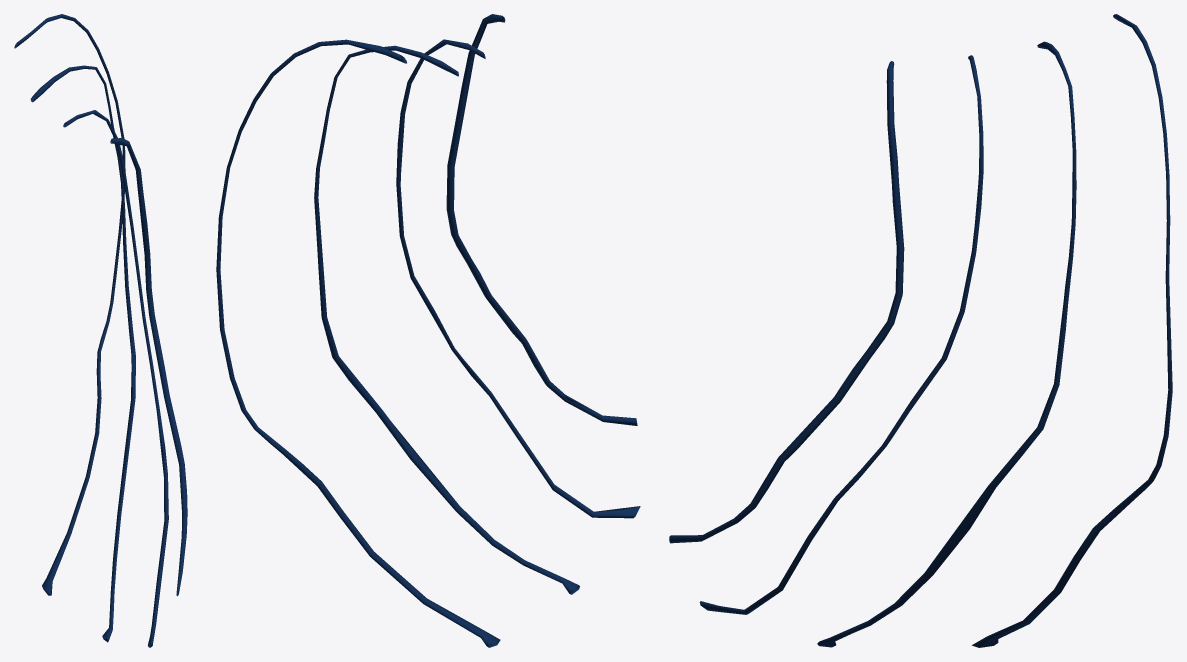
The model's file is L venae intercostales dorsales II-V.fbx.
The picture shows the model from 3 angles, left to right: view 1: azimuth 30°, elevation 25°; view 2: azimuth 150°, elevation 25°; view 3: azimuth 270°, elevation 25°; orthographic projection. The views are drawn at different scales.
Parts seen in each view (by area): view 1: L venae intercostales dorsales II-V, L venae intercostales dorsales II-V low; view 2: L venae intercostales dorsales II-V, L venae intercostales dorsales II-V low; view 3: L venae intercostales dorsales II-V, L venae intercostales dorsales II-V low.
Boxes of the visible parts, left/top/right/bottom form: L venae intercostales dorsales II-V: left=14, top=14, right=187, bottom=645; L venae intercostales dorsales II-V low: left=15, top=18, right=186, bottom=647; L venae intercostales dorsales II-V: left=216, top=14, right=640, bottom=647; L venae intercostales dorsales II-V low: left=220, top=15, right=637, bottom=646; L venae intercostales dorsales II-V: left=669, top=14, right=1172, bottom=647; L venae intercostales dorsales II-V low: left=674, top=15, right=1171, bottom=645.
Size of the model in its own units: 10.25 by 32.16 by 22.17.
